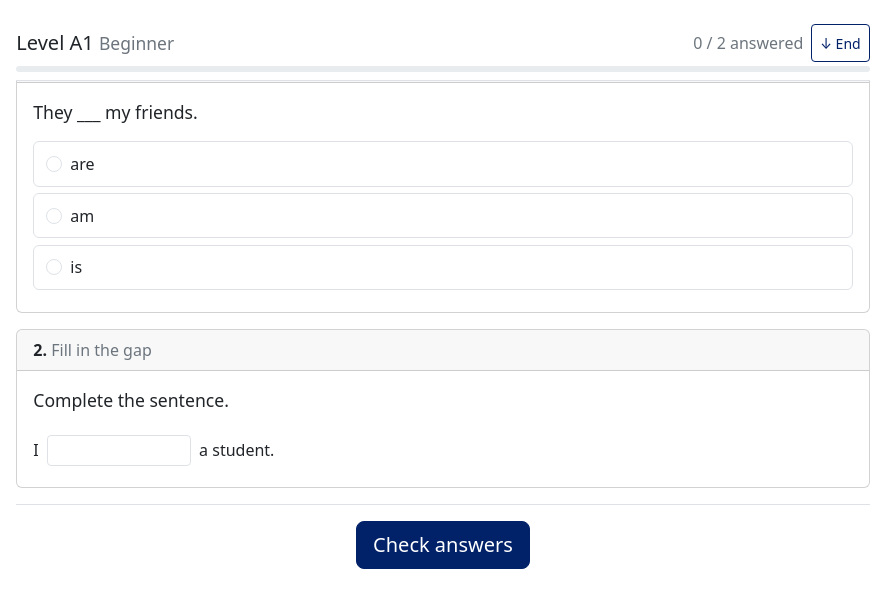
Test: QuizPage › has a sticky progress bar with a button that scrolls to the end of the page
The width and height of the screenshot is (887, 590).
Check: the button "Check answers" is shown, box [356, 521, 530, 569]
Check: the text "0 / 2 answered" is shown, box [16, 16, 870, 81]
Click the button with aria-label "Go to the end of the page": (840, 43) [811, 24, 870, 62]
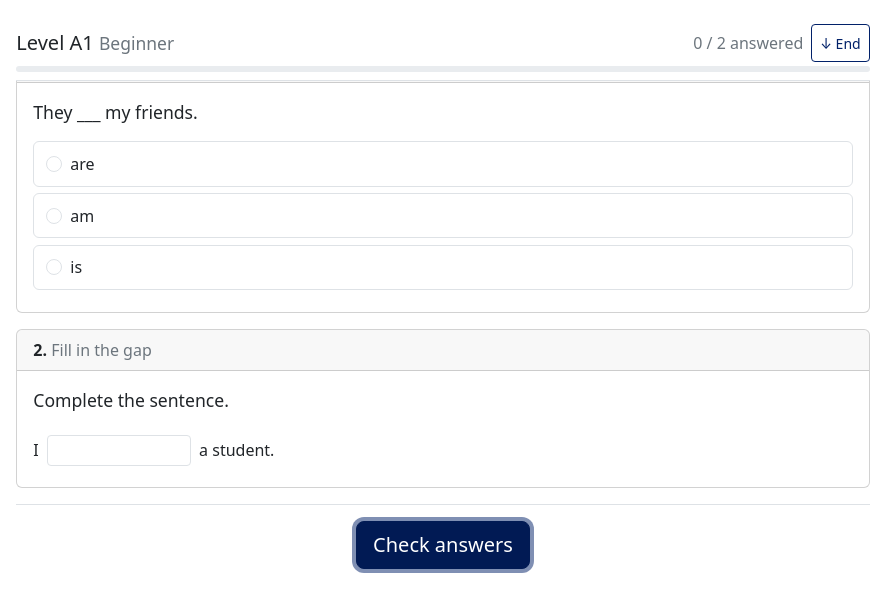
Click the radio button labelled "are": (54, 164) [46, 156, 62, 172]
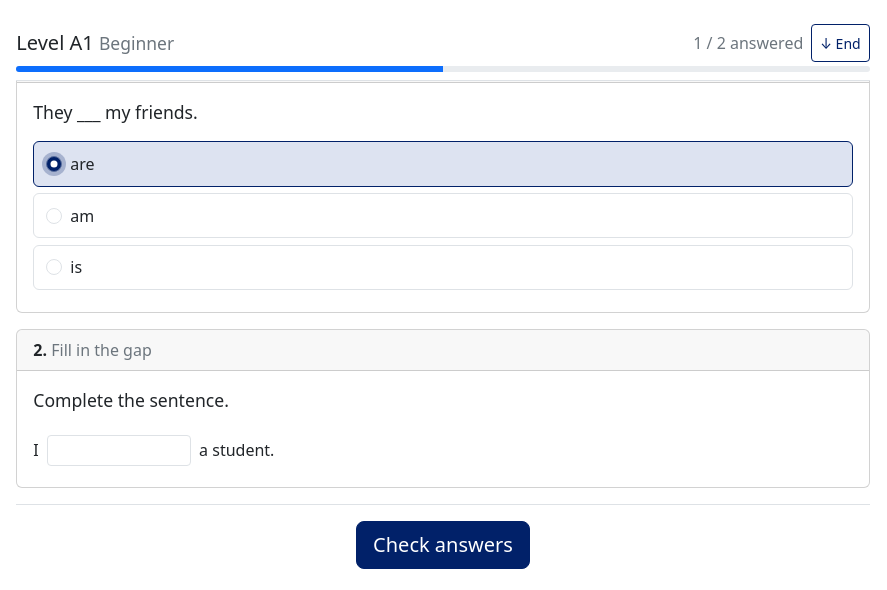
Check: the text "1 / 2 answered" is shown, box [693, 31, 803, 55]
